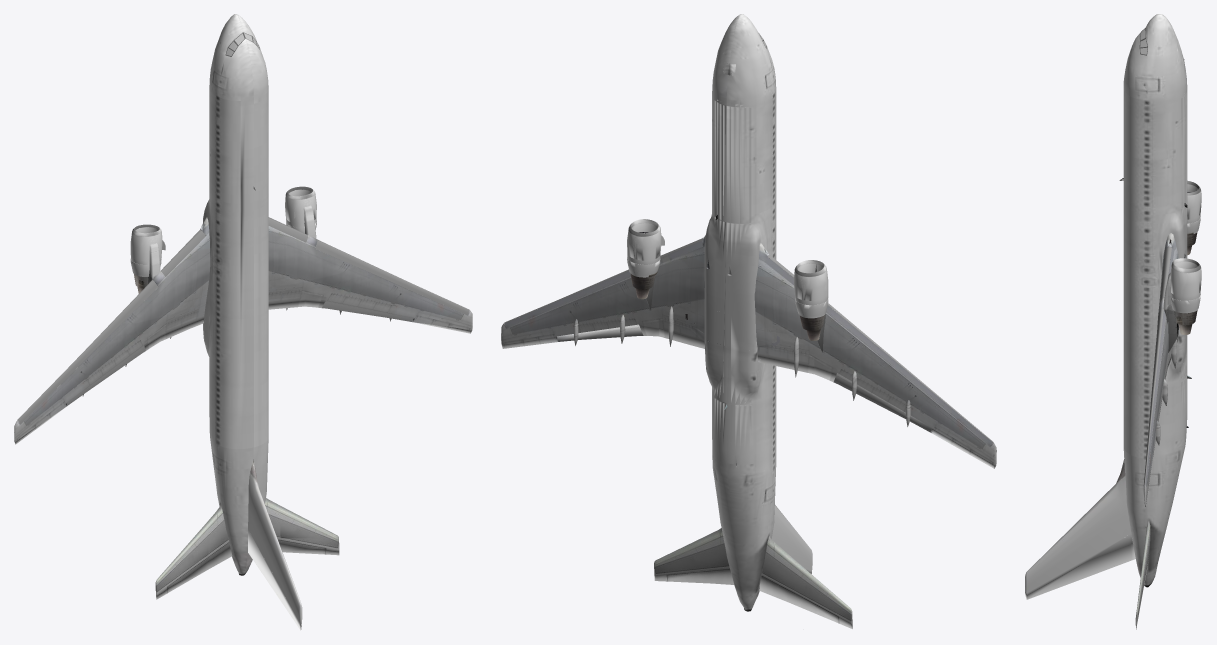
3 views of the same model, side by side, from view 1: azimuth 30°, elevation 25°; view 2: azimuth 150°, elevation 25°; view 3: azimuth 270°, elevation 25° (orthographic). The views are drawn at different scales.
Visible parts, largest first — view 1: Fuselage, RWing_002, LWing_001, VStab_001, LHStab_001, RHStab, LFflapwing2, RFflapwing2, LHStab, VRudder, LCapaturbofan_004, RCapaturbofan_003; view 2: Fuselage, LWing_001, RWing_002, LHStab_001, RHStab, VStab_001, LHStab, LCapaturbofan_004, RCapaturbofan_003, flapl, RHelev, flap_ext_L (+1 smaller); view 3: Fuselage, VStab_001, VRudder, RWing_002, RCapaturbofan_003, Glass_Fuselage, RFflapwing2, RSuportTurbofan, RHStab, RCapaturbofan_001, LCapaturbofan_004, RFflapwing1 (+1 smaller).
Boxes of the visible parts, bbox=[...] form: Fuselage: bbox=[203, 14, 268, 575]; RWing_002: bbox=[268, 226, 472, 333]; LWing_001: bbox=[14, 217, 210, 444]; VStab_001: bbox=[248, 459, 302, 624]; LHStab_001: bbox=[155, 504, 232, 599]; RHStab: bbox=[265, 498, 339, 555]; LFflapwing2: bbox=[17, 280, 158, 424]; RFflapwing2: bbox=[315, 239, 469, 315]; LHStab: bbox=[168, 541, 231, 592]; VRudder: bbox=[249, 531, 300, 629]; LCapaturbofan_004: bbox=[130, 228, 162, 260]; RCapaturbofan_003: bbox=[285, 190, 316, 223]; Fuselage: bbox=[704, 14, 776, 611]; LWing_001: bbox=[754, 243, 996, 468]; RWing_002: bbox=[501, 235, 705, 348]; LHStab_001: bbox=[761, 536, 852, 628]; RHStab: bbox=[654, 528, 729, 581]; VStab_001: bbox=[771, 505, 812, 570]; LHStab: bbox=[758, 575, 838, 622]; LCapaturbofan_004: bbox=[794, 264, 828, 300]; RCapaturbofan_003: bbox=[627, 223, 661, 260]; flapl: bbox=[759, 347, 814, 374]; RHelev: bbox=[666, 567, 734, 584]; flap_ext_L: bbox=[833, 373, 931, 432]; Fuselage: bbox=[1123, 14, 1187, 587]; VStab_001: bbox=[1025, 459, 1135, 592]; VRudder: bbox=[1027, 535, 1132, 599]; RWing_002: bbox=[1143, 233, 1179, 508]; RCapaturbofan_003: bbox=[1170, 262, 1201, 296]; Glass_Fuselage: bbox=[1147, 103, 1152, 442]; RFflapwing2: bbox=[1144, 309, 1163, 483]; RSuportTurbofan: bbox=[1163, 273, 1177, 352]; RHStab: bbox=[1135, 519, 1150, 629]; RCapaturbofan_001: bbox=[1171, 292, 1200, 313]; LCapaturbofan_004: bbox=[1187, 186, 1201, 219]; RFflapwing1: bbox=[1160, 247, 1171, 301].
Bounding box in the file's own units: 46.31 × 55.2 × 15.12.
Materials: 9 (4 with a texture image).
